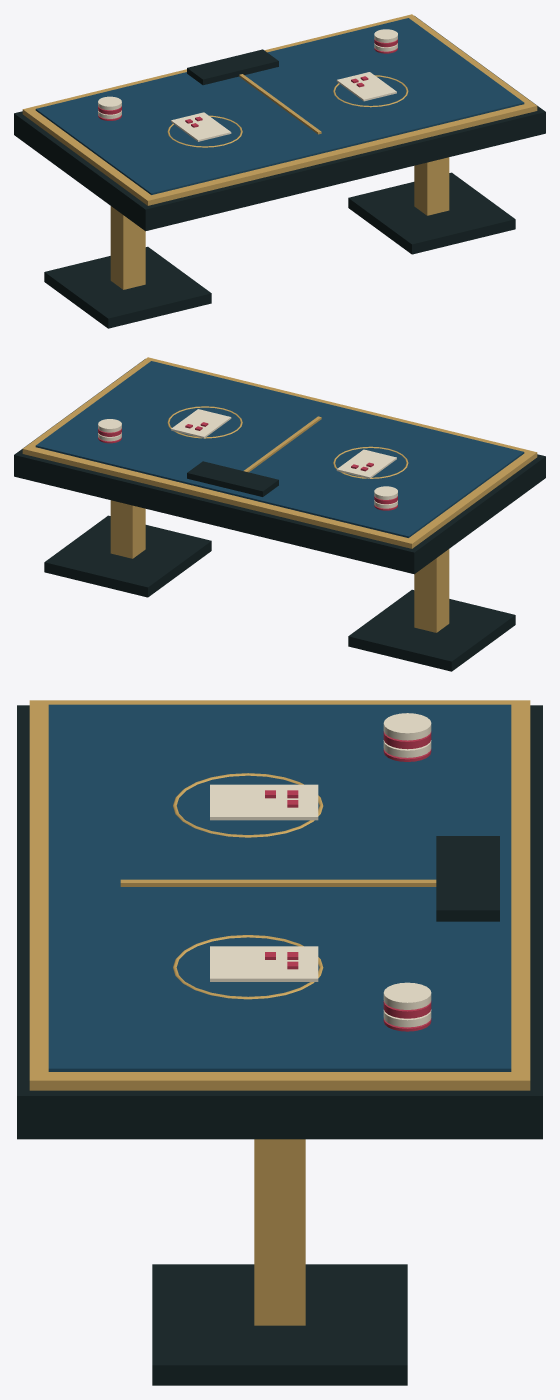
Rendered from war.glb.
3 views of the same model, one above another, from view 1: azimuth 30°, elevation 25°; view 2: azimuth 150°, elevation 25°; view 3: azimuth 270°, elevation 25° (orthographic). The views are drawn at different scales.
Size of the model in its own units: 2.95 by 1.14 by 1.65.
